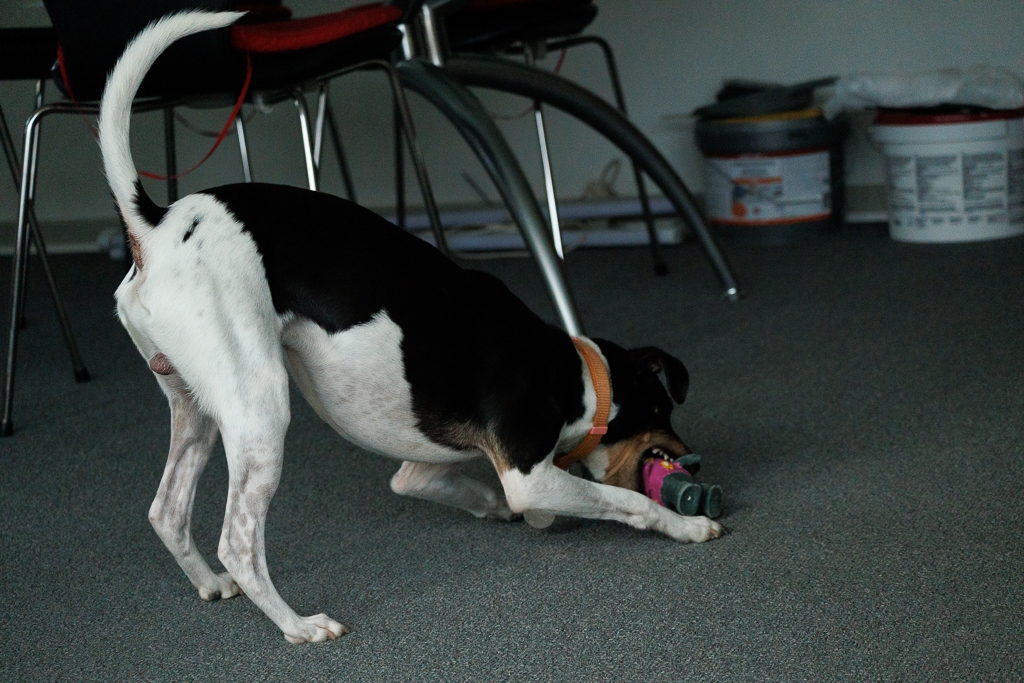Dog: (93, 6, 739, 657)
Humanoid: (634, 434, 731, 524)
